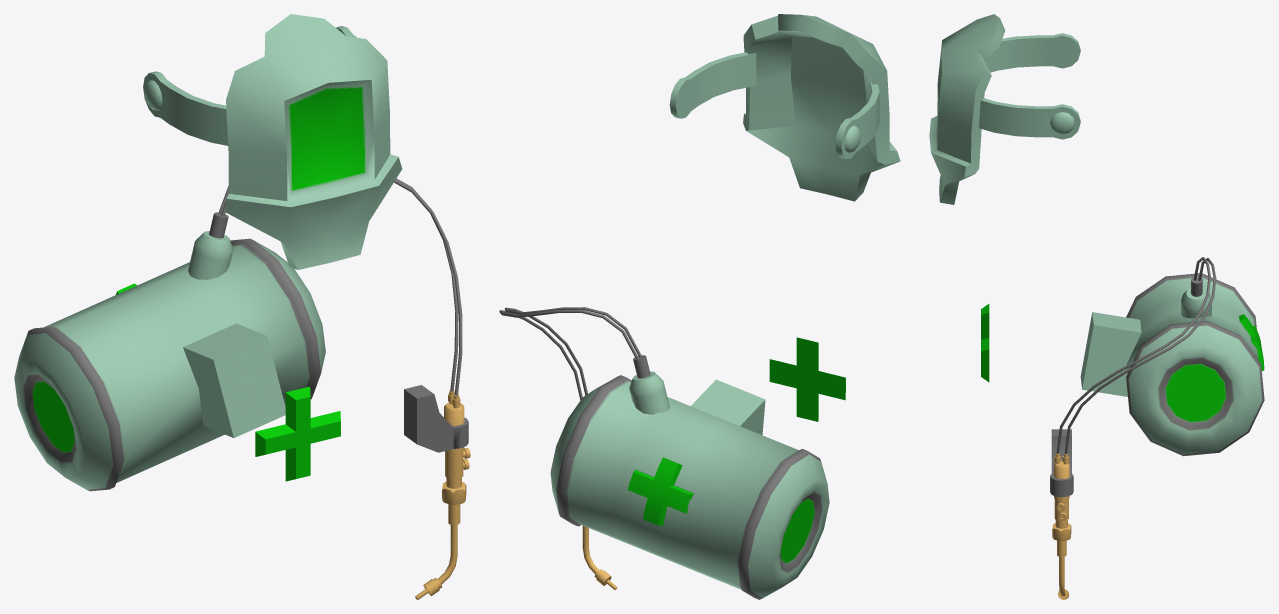
File: Healer.FBX
3 renders of one model, left to right at view 1: azimuth 30°, elevation 25°; view 2: azimuth 150°, elevation 25°; view 3: azimuth 270°, elevation 25°, orthographic. The views are drawn at different scales.
Parts seen in each view (by area): view 1: Back001, Head001, Arm, Belly001, Tube; view 2: Back001, Head001, Belly001, Tube, Arm; view 3: Back001, Head001, Arm, Tube, Belly001.
Part boxes in pixels (x1,y1,x2,y2): Back001: (14,212,325,491); Head001: (143,14,402,269); Arm: (404,385,470,599); Belly001: (255,386,340,481); Tube: (218,178,462,395); Back001: (550,355,829,599); Head001: (669,14,900,201); Belly001: (769,337,845,421); Tube: (499,307,641,400); Arm: (582,525,617,589); Back001: (1080,273,1264,456); Head001: (929,14,1080,204); Arm: (1050,429,1073,599); Tube: (1056,257,1216,454); Belly001: (981,304,989,382).
Bounding box in the file's own units: 74.89 × 129 × 75.93.
1 material, 1 textured.
